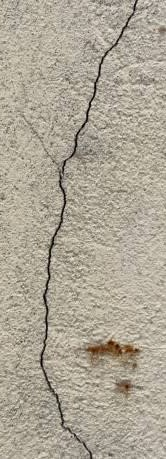Corrosion: (86, 340, 139, 357), (108, 380, 139, 393)
Crack: (39, 1, 138, 459)
